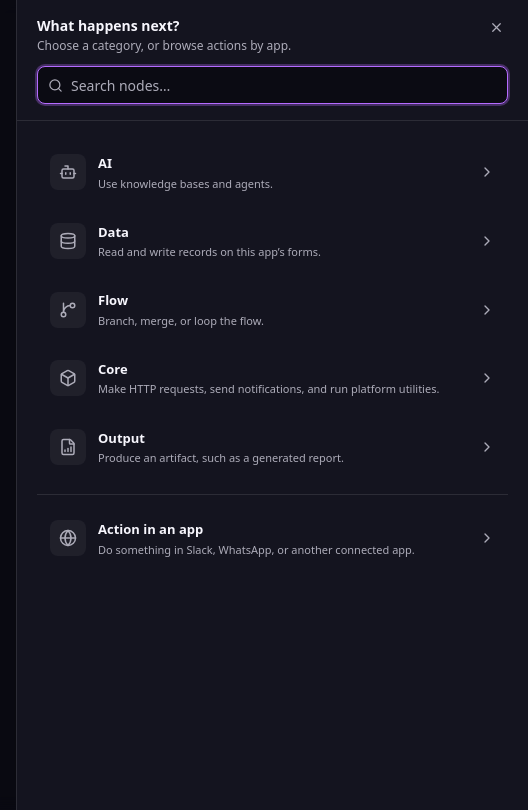
Scenario: the node picker, against the live catalog › keeps app actions out of the Core category
Click the button "Core": click(68, 378) [37,347,508,410]
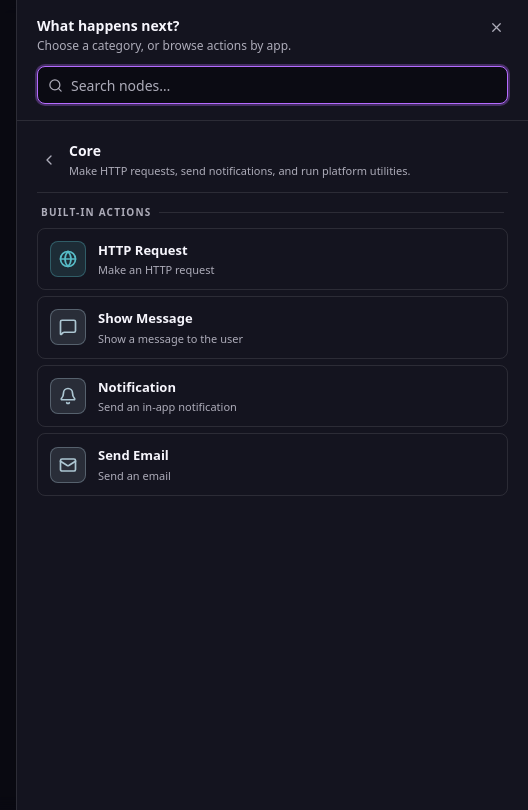
Now the text "HTTP Request" is shown, box [98,240,188,258]
Now the text "Notification" is shown, box [98,378,176,396]
